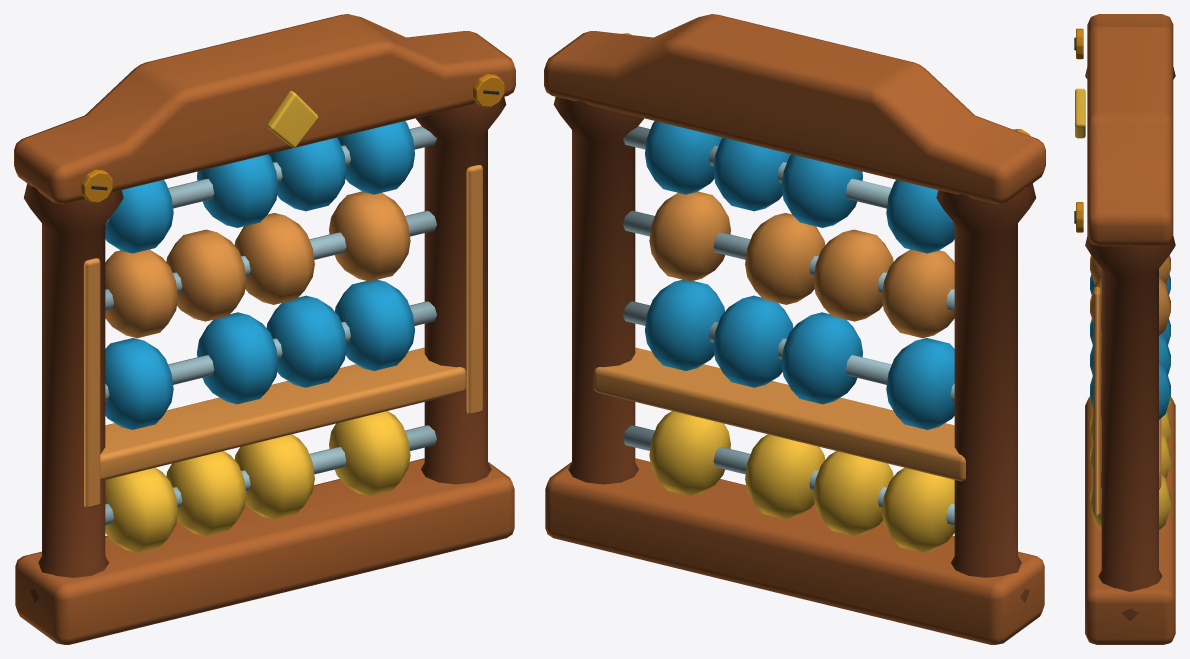
File: abacus.glb
3 views of the same model, side by side, from view 1: azimuth 30°, elevation 25°; view 2: azimuth 150°, elevation 25°; view 3: azimuth 270°, elevation 25° (orthographic). The views are drawn at different scales.
Visible parts, largest first — view 1: abacus_runtime; view 2: abacus_runtime; view 3: abacus_runtime.
Part boxes in pixels (x1,y1,x2,y2): abacus_runtime: (14,14,515,644); abacus_runtime: (544,14,1045,644); abacus_runtime: (1074,14,1175,644).
Bounding box in the file's own units: 1.21 × 1.3 × 0.2503.
Materials: 1 (1 with a texture image).
